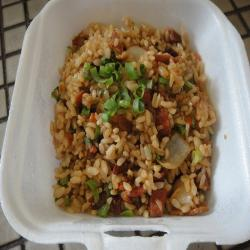rice: (59, 27, 209, 215)
